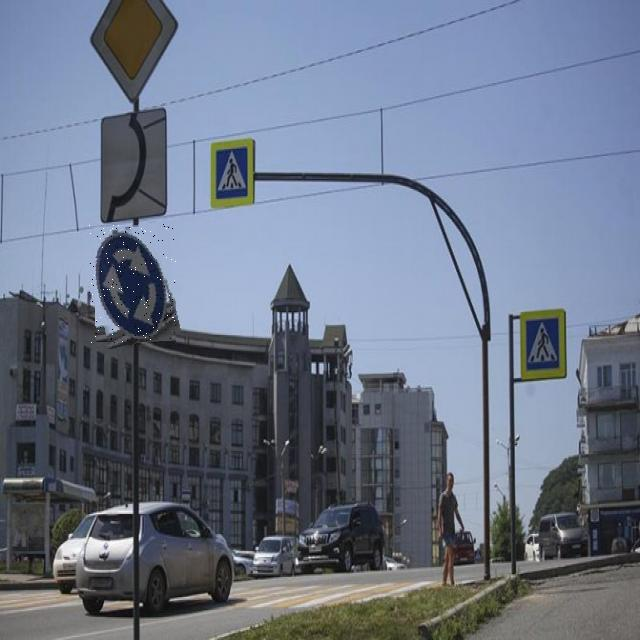roundabout: (88, 224, 176, 345)
